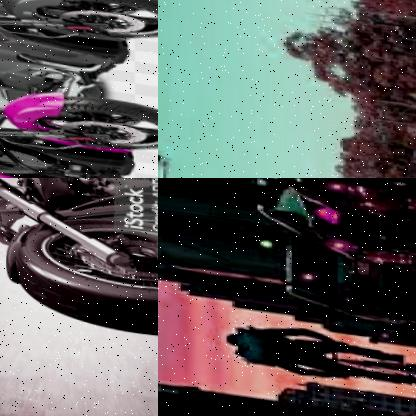bike: (0, 178, 158, 335), (0, 49, 158, 178)
car: (282, 239, 416, 322), (252, 188, 416, 254), (161, 178, 416, 219), (364, 402, 416, 416)
